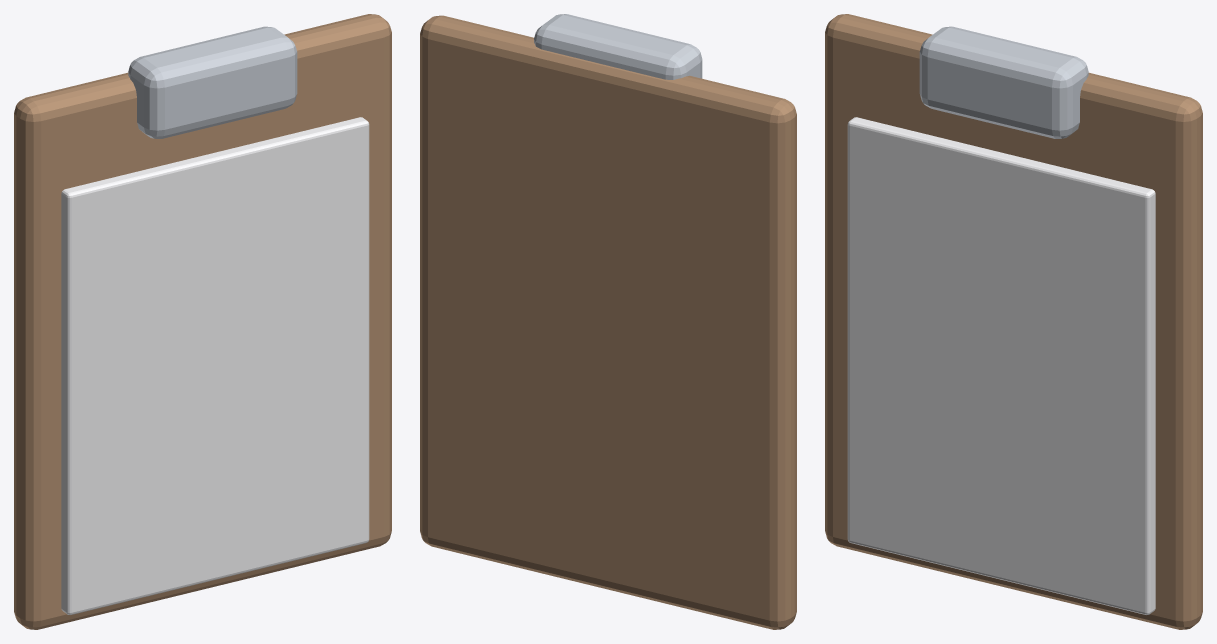
The model's file is clipboard.glb.
3 views of the same model, side by side, from view 1: azimuth 30°, elevation 25°; view 2: azimuth 150°, elevation 25°; view 3: azimuth 330°, elevation 25° (orthographic).
Parts seen in each view (by area): view 1: clipboard; view 2: clipboard; view 3: clipboard.
Part boxes in pixels (x1=…): clipboard: x1=14, y1=14, x2=391, y2=629; clipboard: x1=420, y1=14, x2=796, y2=629; clipboard: x1=825, y1=14, x2=1202, y2=629.
Bounding box in the file's own units: 0.22 × 0.31 × 0.035.
